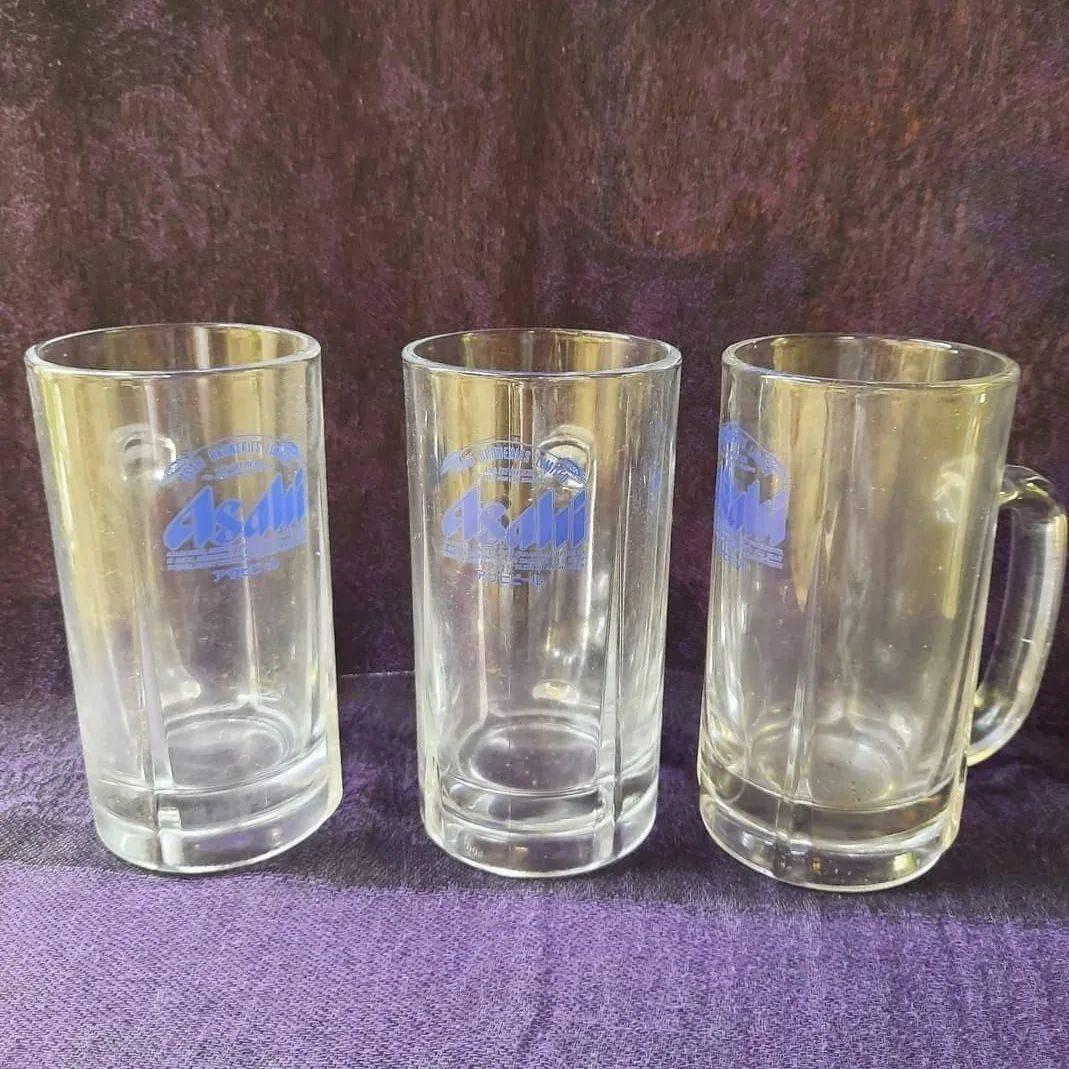glass-mug: (682, 316, 1069, 899), (12, 310, 350, 884), (386, 312, 688, 881)
